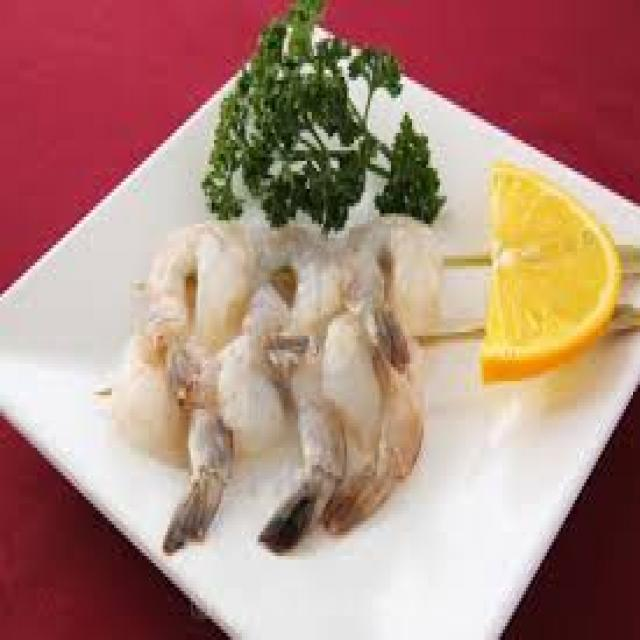lemon: (484, 150, 620, 394)
shrimp: (238, 340, 334, 558), (330, 359, 422, 537), (149, 211, 243, 336), (352, 210, 440, 333), (164, 403, 234, 556)
